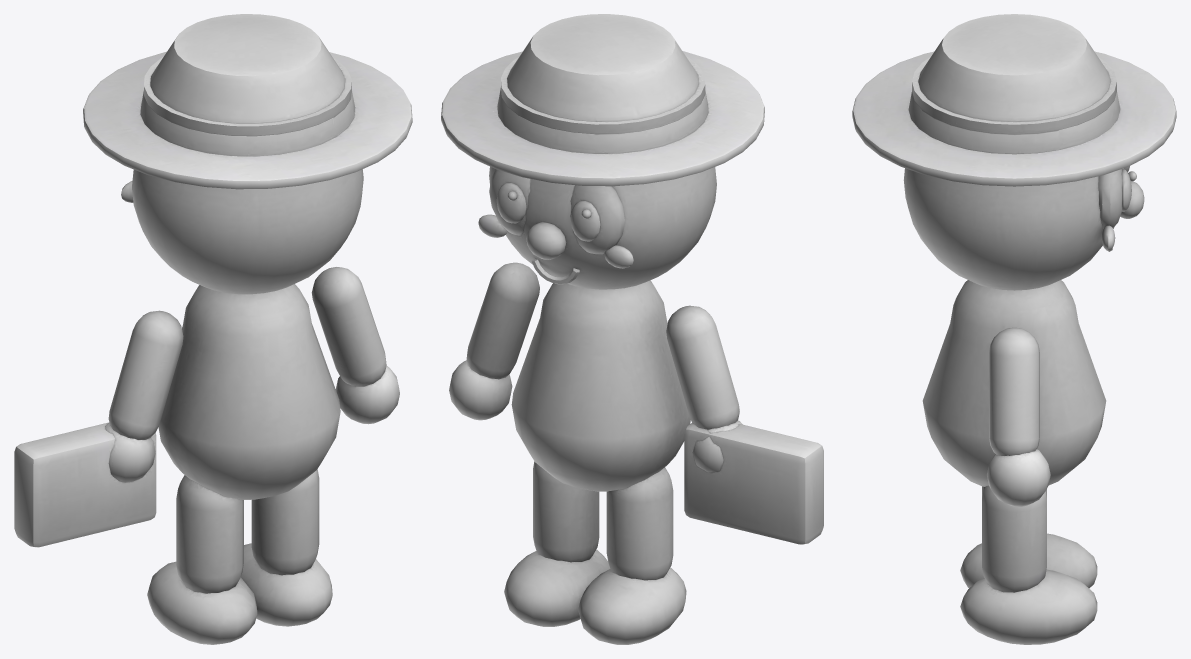
Rendered from Character_Passenger2.glb.
The picture shows the model from 3 angles, left to right: view 1: azimuth 30°, elevation 25°; view 2: azimuth 150°, elevation 25°; view 3: azimuth 270°, elevation 25°; orthographic projection.
Parts seen in each view (by area): view 1: Character_Passenger2; view 2: Character_Passenger2; view 3: Character_Passenger2.
Part boxes in pixels (x1=…): Character_Passenger2: x1=14, y1=14, x2=412, y2=644; Character_Passenger2: x1=441, y1=14, x2=823, y2=644; Character_Passenger2: x1=852, y1=14, x2=1176, y2=644.
Bounding box in the file's own units: 0.9881 × 1.51 × 0.76.
1 material, 1 textured.
